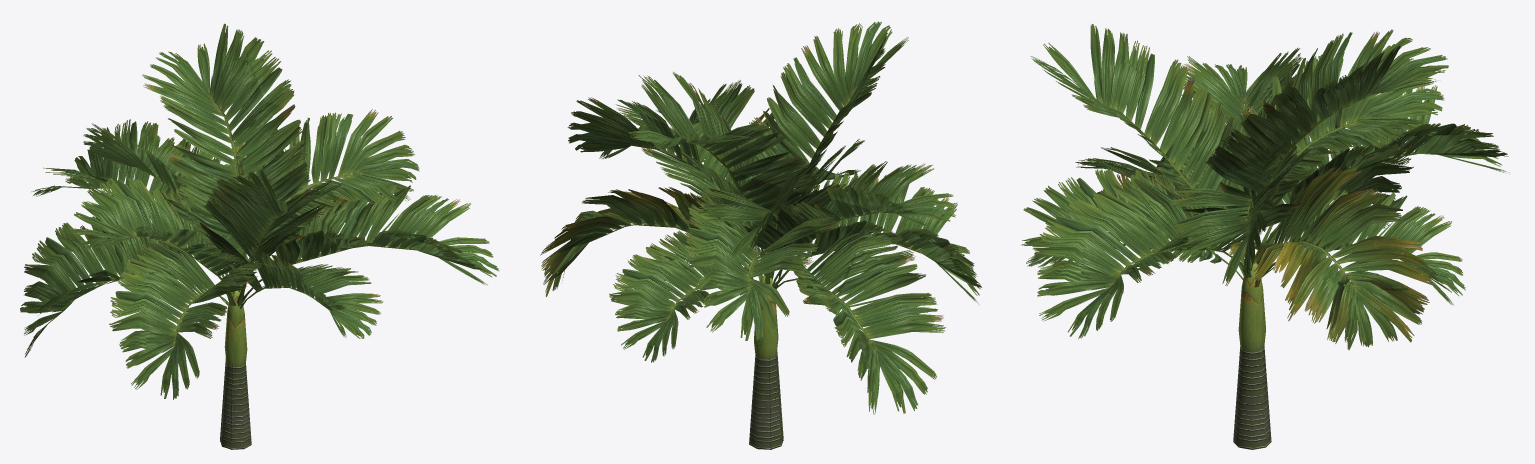
Rendered from MK4_ArecaPalm1.DAE.
3 views of the same model, side by side, from view 1: azimuth 30°, elevation 25°; view 2: azimuth 150°, elevation 25°; view 3: azimuth 270°, elevation 25° (orthographic). The views are drawn at different scales.
Visible parts, largest first — view 1: MK4_ArecaPalm100, MK4_ArecaPalm20; view 2: MK4_ArecaPalm100, MK4_ArecaPalm20; view 3: MK4_ArecaPalm100, MK4_ArecaPalm20.
Part boxes in pixels (x1=…): MK4_ArecaPalm100: x1=20, y1=24, x2=498, y2=449; MK4_ArecaPalm20: x1=20, y1=23, x2=498, y2=449; MK4_ArecaPalm100: x1=541, y1=22, x2=980, y2=449; MK4_ArecaPalm20: x1=540, y1=21, x2=981, y2=449; MK4_ArecaPalm100: x1=1021, y1=25, x2=1509, y2=449; MK4_ArecaPalm20: x1=1022, y1=24, x2=1509, y2=349.
Size of what is drawn, in the model's own units: 7.92 by 7.51 by 7.15.
